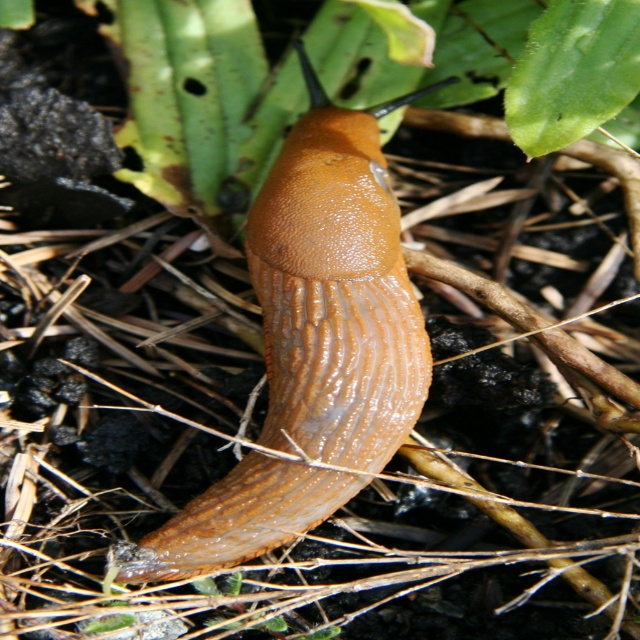Snail: (103, 37, 462, 584)
